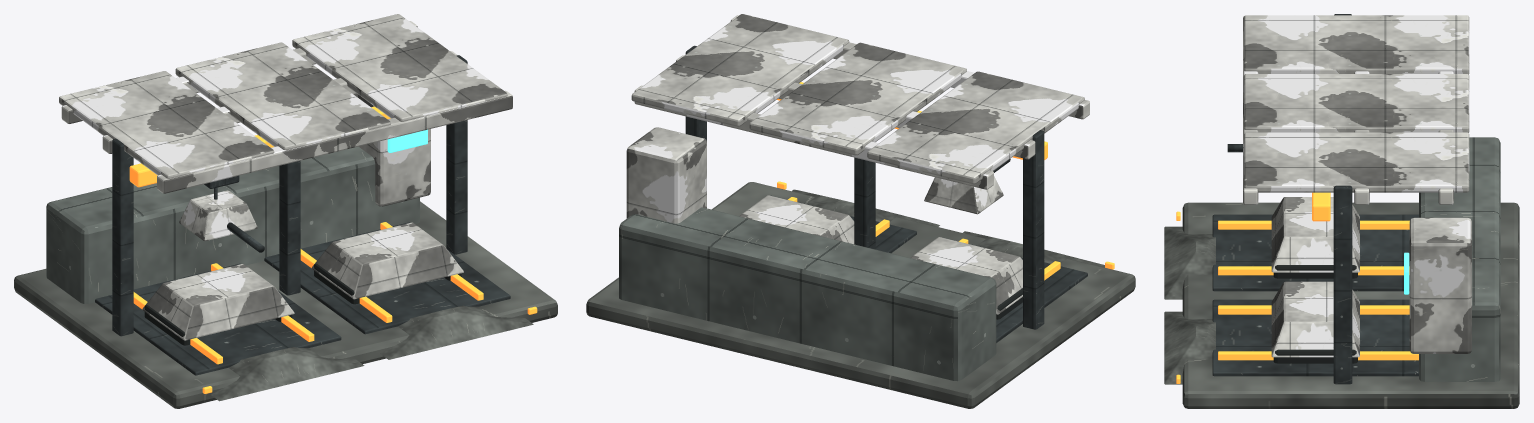
Rendered from war_factory.glb.
The picture shows the model from 3 angles, left to right: view 1: azimuth 30°, elevation 25°; view 2: azimuth 150°, elevation 25°; view 3: azimuth 270°, elevation 25°; orthographic projection. The views are drawn at different scales.
Parts seen in each view (by area): view 1: war_factory_team_primary, war_factory_factory_metal, war_factory_concrete_dark, war_factory_armor_dark, war_factory_team_accent, war_factory_warning_emissive, war_factory_rubber, war_factory_glass_emissive; view 2: war_factory_team_primary, war_factory_factory_metal, war_factory_concrete_dark, war_factory_armor_dark, war_factory_team_accent, war_factory_warning_emissive; view 3: war_factory_team_primary, war_factory_concrete_dark, war_factory_armor_dark, war_factory_factory_metal, war_factory_warning_emissive, war_factory_rubber, war_factory_team_accent.
Boxes of the visible parts, box(x1,y1,x2,y2) form: war_factory_team_primary: box(59, 14, 507, 340); war_factory_factory_metal: box(46, 146, 419, 303); war_factory_concrete_dark: box(14, 201, 557, 408); war_factory_armor_dark: box(95, 55, 510, 375); war_factory_team_accent: box(61, 21, 512, 241); war_factory_warning_emissive: box(129, 106, 537, 393); war_factory_rubber: box(144, 263, 461, 345); war_factory_glass_emissive: box(387, 129, 427, 152); war_factory_team_primary: box(626, 14, 1084, 314); war_factory_factory_metal: box(619, 207, 996, 381); war_factory_concrete_dark: box(586, 182, 1135, 408); war_factory_armor_dark: box(685, 45, 1087, 342); war_factory_team_accent: box(634, 15, 1089, 214); war_factory_warning_emissive: box(777, 82, 1114, 280); war_factory_team_primary: box(1244, 15, 1471, 357); war_factory_concrete_dark: box(1164, 202, 1519, 408); war_factory_armor_dark: box(1212, 14, 1418, 384); war_factory_factory_metal: box(1419, 137, 1500, 381); war_factory_warning_emissive: box(1176, 192, 1418, 383); war_factory_rubber: box(1273, 265, 1357, 363); war_factory_team_accent: box(1243, 16, 1453, 204).
Size of the model in its own units: 8.4 by 4.36 by 6.54.
Materials: 8 (5 with a texture image).
